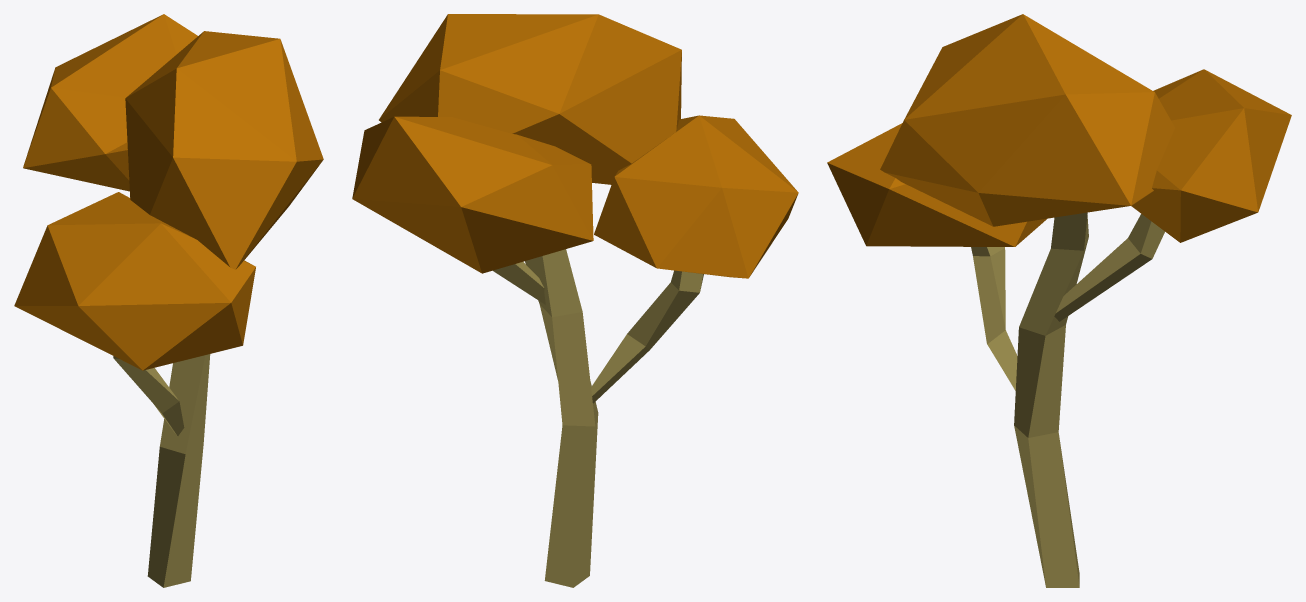
The model's file is Tree_Fall_7.fbx.
The picture shows the model from 3 angles, left to right: view 1: azimuth 30°, elevation 25°; view 2: azimuth 150°, elevation 25°; view 3: azimuth 270°, elevation 25°; orthographic projection. The views are drawn at different scales.
Visible parts, largest first — view 1: Leaves.002, Leaves, Leaves.001, Trunk, Trunk.002; view 2: Leaves.002, Leaves.001, Leaves, Trunk, Trunk.002, Trunk.001; view 3: Leaves.002, Leaves.001, Trunk, Leaves, Trunk.001, Trunk.002.
Boxes of the visible parts, x1,y1,x2,y2 form: Leaves.002: [125, 31, 323, 269]; Leaves: [14, 192, 255, 370]; Leaves.001: [23, 14, 197, 191]; Trunk: [147, 354, 210, 587]; Trunk.002: [113, 356, 184, 436]; Leaves.002: [379, 14, 681, 184]; Leaves.001: [352, 116, 593, 273]; Leaves: [594, 115, 798, 278]; Trunk: [525, 249, 598, 587]; Trunk.002: [591, 270, 703, 403]; Trunk.001: [493, 262, 545, 304]; Leaves.002: [880, 14, 1174, 226]; Leaves.001: [1131, 69, 1291, 242]; Trunk: [1014, 212, 1088, 587]; Leaves: [827, 123, 1046, 246]; Trunk.001: [1054, 214, 1164, 321]; Trunk.002: [971, 247, 1017, 390].
Bounding box in the file's own units: 213 × 345 × 259.
